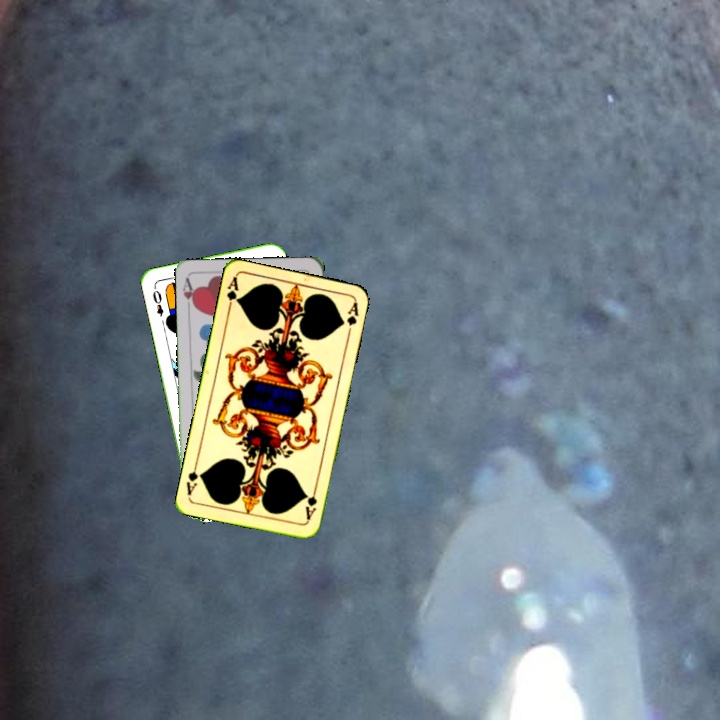EO: (148, 286, 166, 319)
GA: (222, 274, 241, 314), (301, 484, 319, 524)
HA: (179, 274, 199, 315)
